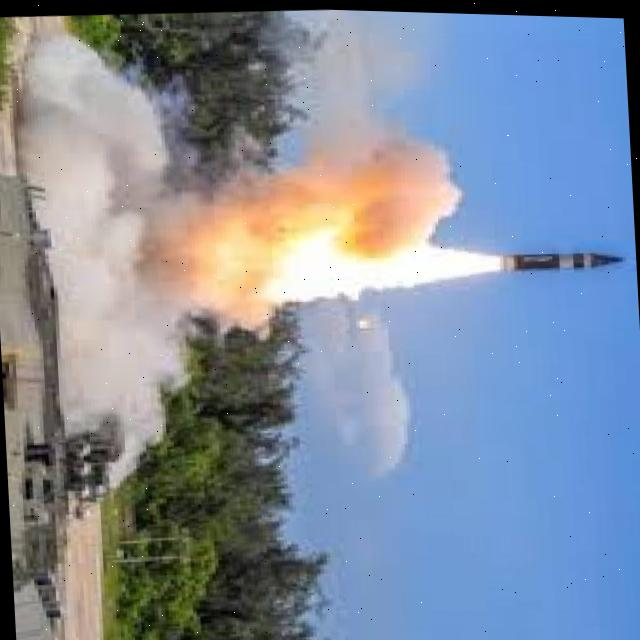missile: (500, 234, 628, 278)
